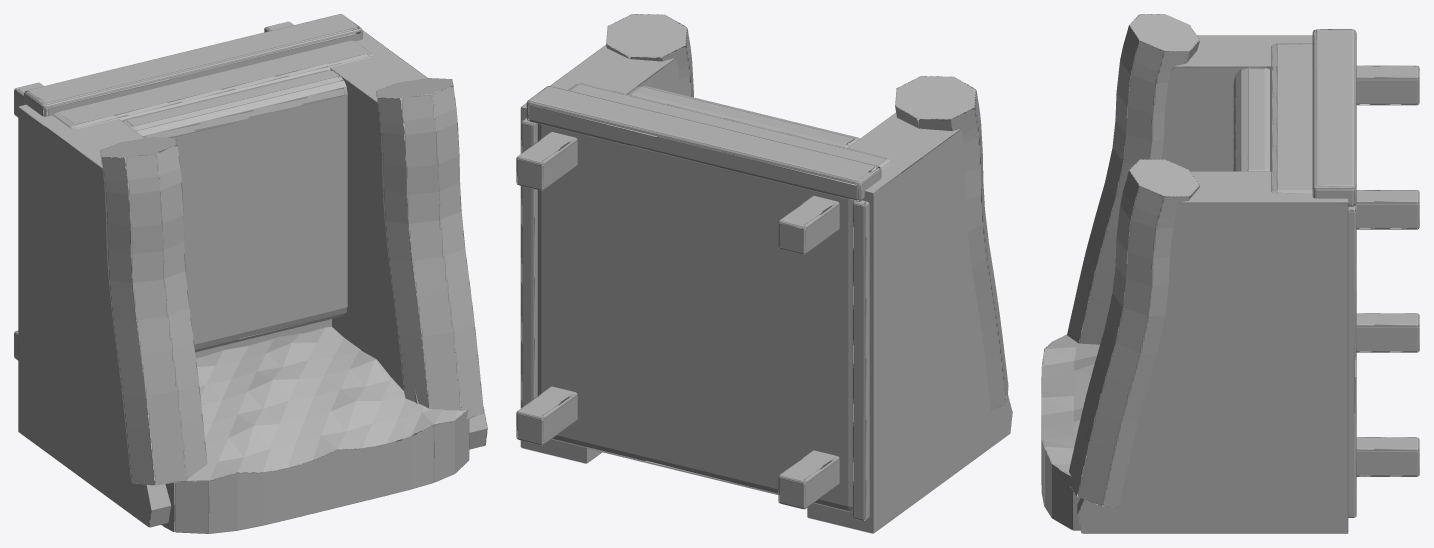
The model's file is pz_chair_seating_indoor_03_victorian_6.obj.
3 views of the same model, side by side, from view 1: azimuth 30°, elevation 25°; view 2: azimuth 150°, elevation 25°; view 3: azimuth 270°, elevation 25° (orthographic). The views are drawn at different scales.
Visible parts, largest first — view 1: Victorian_6_|_rounded_seat_cushion_0, Victorian_6_|_closed_curved_padded_back, Victorian_6_|_closed_upholstered_side_-1, Victorian_6_|_EDITABLE_rolled_upholstered_arm_-1, Victorian_6_|_EDITABLE_rolled_upholstered_arm_1, Victorian_6_|_closed_upholstered_side_1, Victorian_6_|_native_front_wooden_apron, Victorian_6_|_closed_upholstered_base; view 2: Victorian_6_|_closed_upholstered_base, Victorian_6_|_closed_upholstered_side_-1, Victorian_6_|_native_front_wooden_apron, Victorian_6_|_EDITABLE_rolled_upholstered_arm_-1, Victorian_6_|_wood_side_plinth_-0.443, Victorian_6_|_closed_upholstered_side_1, Victorian_6_|_wood_side_plinth_0.443, Victorian_6_|_EDITABLE_rolled_upholstered_arm_1, Victorian_6_|_rounded_seat_cushion_0, Victorian_6_|_short_wood_foot_(0.35,_-0.3), Victorian_6_|_short_wood_foot_(-0.35,_-0.3), Victorian_6_|_short_wood_foot_(-0.35,_0.35) (+1 smaller); view 3: Victorian_6_|_closed_upholstered_side_1, Victorian_6_|_EDITABLE_rolled_upholstered_arm_1, Victorian_6_|_EDITABLE_rolled_upholstered_arm_-1, Victorian_6_|_closed_upholstered_side_-1, Victorian_6_|_native_front_wooden_apron, Victorian_6_|_closed_curved_padded_back, Victorian_6_|_closed_upholstered_base, Victorian_6_|_rounded_seat_cushion_0, Victorian_6_|_wood_side_plinth_0.443, Victorian_6_|_short_wood_foot_(-0.35,_0.35), Victorian_6_|_short_wood_foot_(-0.35,_-0.3), Victorian_6_|_short_wood_foot_(0.35,_0.35) (+1 smaller).
Part boxes in pixels (bbox=[...]): Victorian_6_|_rounded_seat_cushion_0: bbox=[122, 70, 348, 352]; Victorian_6_|_closed_curved_padded_back: bbox=[147, 326, 469, 533]; Victorian_6_|_closed_upholstered_side_-1: bbox=[18, 101, 209, 527]; Victorian_6_|_EDITABLE_rolled_upholstered_arm_-1: bbox=[100, 137, 207, 485]; Victorian_6_|_EDITABLE_rolled_upholstered_arm_1: bbox=[376, 78, 483, 426]; Victorian_6_|_closed_upholstered_side_1: bbox=[292, 29, 487, 457]; Victorian_6_|_native_front_wooden_apron: bbox=[24, 14, 362, 116]; Victorian_6_|_closed_upholstered_base: bbox=[40, 31, 377, 357]; Victorian_6_|_closed_upholstered_base: bbox=[537, 83, 897, 512]; Victorian_6_|_closed_upholstered_side_-1: bbox=[807, 112, 1012, 533]; Victorian_6_|_native_front_wooden_apron: bbox=[526, 86, 881, 201]; Victorian_6_|_EDITABLE_rolled_upholstered_arm_-1: bbox=[895, 76, 1008, 410]; Victorian_6_|_wood_side_plinth_-0.443: bbox=[852, 189, 878, 521]; Victorian_6_|_closed_upholstered_side_1: bbox=[520, 45, 690, 463]; Victorian_6_|_wood_side_plinth_0.443: bbox=[521, 118, 537, 408]; Victorian_6_|_EDITABLE_rolled_upholstered_arm_1: bbox=[606, 14, 693, 97]; Victorian_6_|_rounded_seat_cushion_0: bbox=[627, 85, 859, 148]; Victorian_6_|_short_wood_foot_(0.35,_-0.3): bbox=[516, 386, 577, 445]; Victorian_6_|_short_wood_foot_(-0.35,_-0.3): bbox=[778, 450, 839, 509]; Victorian_6_|_short_wood_foot_(-0.35,_0.35): bbox=[778, 195, 839, 254]; Victorian_6_|_closed_upholstered_side_1: bbox=[1077, 171, 1348, 533]; Victorian_6_|_EDITABLE_rolled_upholstered_arm_1: bbox=[1068, 159, 1199, 506]; Victorian_6_|_EDITABLE_rolled_upholstered_arm_-1: bbox=[1067, 14, 1199, 344]; Victorian_6_|_closed_upholstered_side_-1: bbox=[1092, 35, 1316, 344]; Victorian_6_|_native_front_wooden_apron: bbox=[1312, 29, 1356, 206]; Victorian_6_|_closed_curved_padded_back: bbox=[1041, 329, 1099, 530]; Victorian_6_|_closed_upholstered_base: bbox=[1267, 43, 1352, 211]; Victorian_6_|_rounded_seat_cushion_0: bbox=[1233, 67, 1277, 171]; Victorian_6_|_wood_side_plinth_0.443: bbox=[1348, 205, 1356, 517]; Victorian_6_|_short_wood_foot_(-0.35,_0.35): bbox=[1356, 65, 1419, 105]; Victorian_6_|_short_wood_foot_(-0.35,_-0.3): bbox=[1356, 313, 1419, 352]; Victorian_6_|_short_wood_foot_(0.35,_0.35): bbox=[1355, 190, 1419, 229].
Bounding box in the file's own units: 0.982 × 0.9551 × 0.9004.
1 material, 1 textured.
